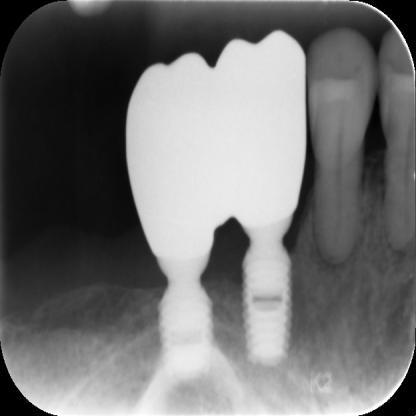Bicon: (235, 244, 302, 366), (150, 268, 224, 372)
